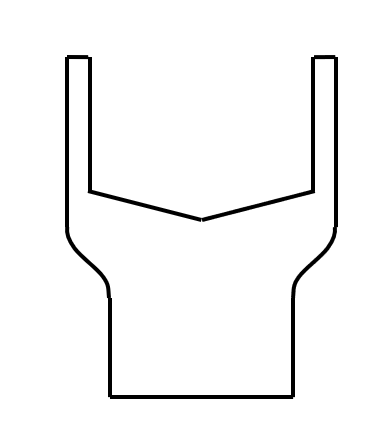nrfp: (56, 45, 348, 207)
